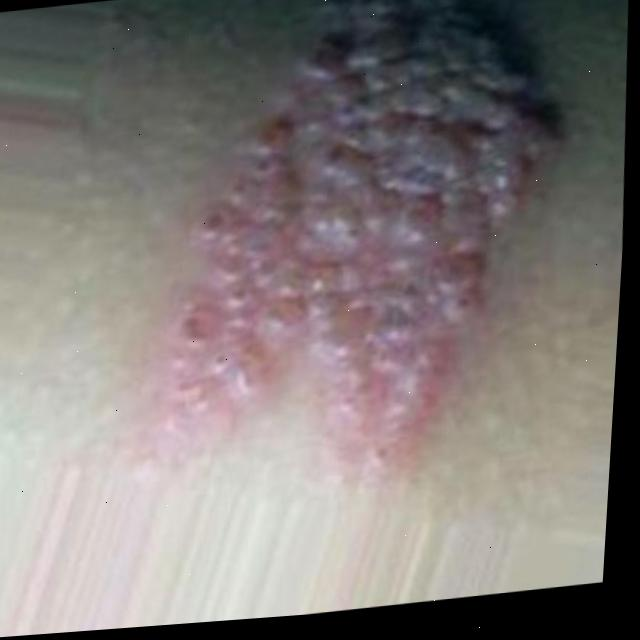Shingles: (146, 0, 587, 497)
